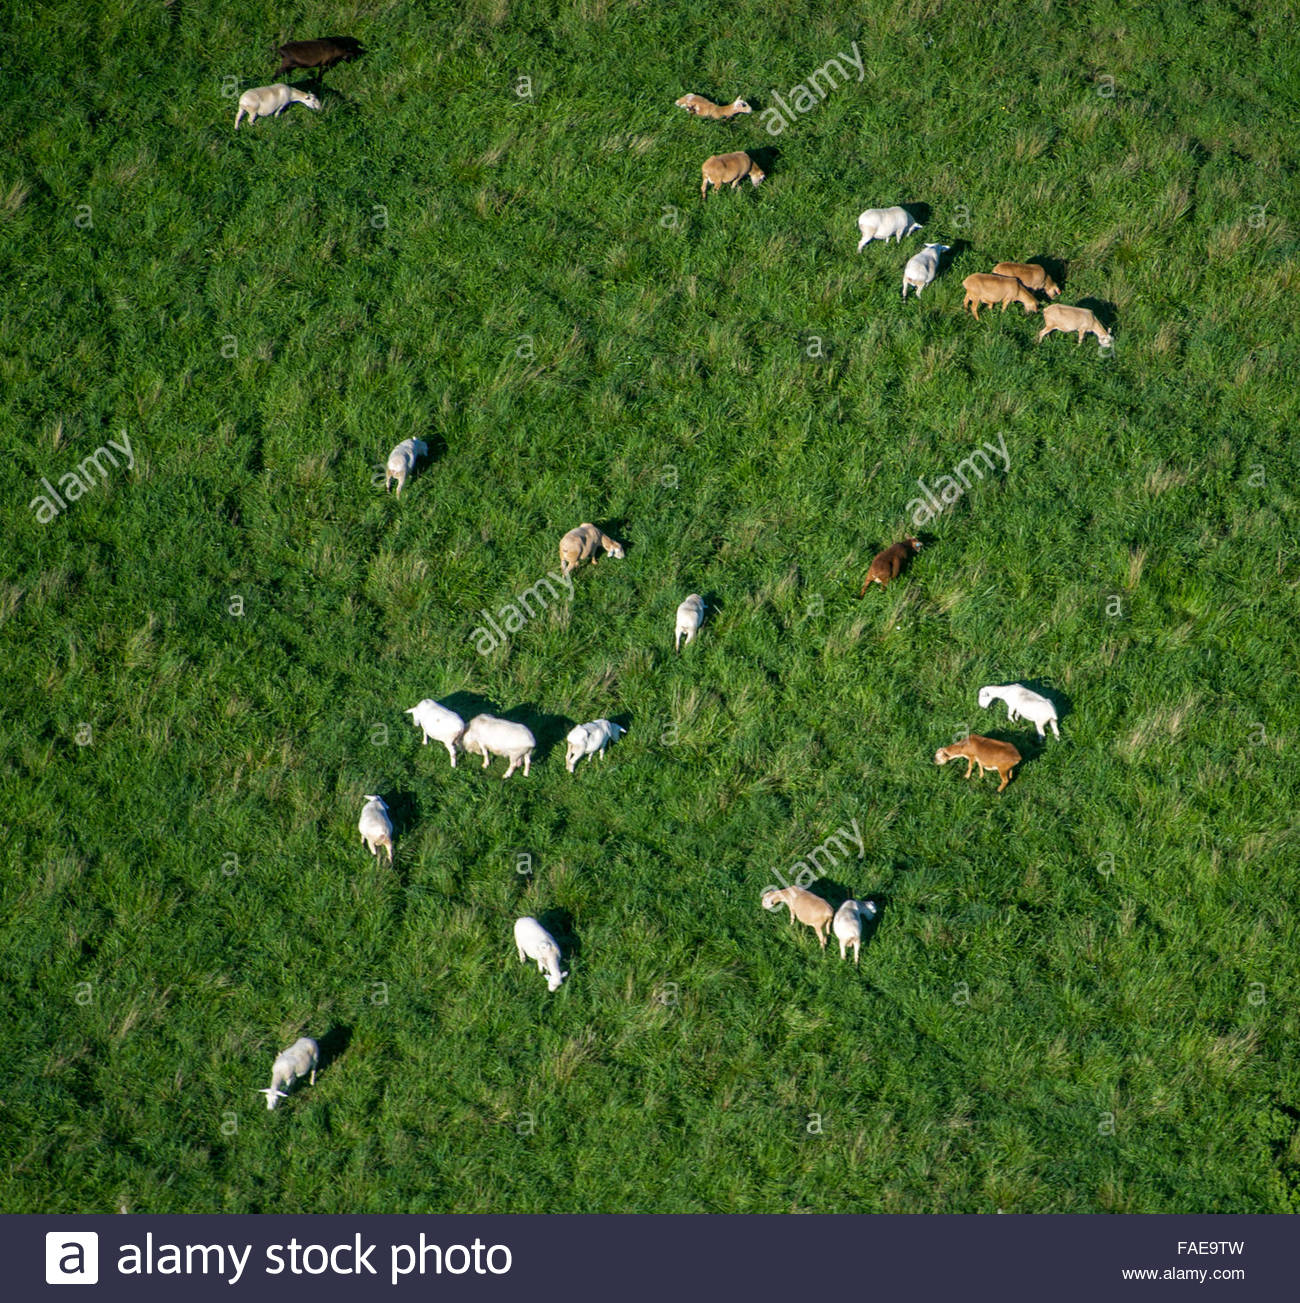sheep: (963, 676, 1067, 746), (270, 21, 385, 81), (550, 524, 649, 590), (757, 882, 844, 948), (504, 912, 563, 1002), (946, 733, 1032, 794), (258, 1031, 323, 1111), (688, 143, 773, 203), (351, 789, 408, 878), (467, 712, 549, 773), (864, 530, 944, 593), (957, 272, 1040, 328), (225, 83, 326, 129), (825, 895, 879, 979), (410, 700, 471, 768), (1040, 302, 1115, 353), (1000, 251, 1070, 305), (850, 196, 929, 243), (565, 715, 636, 765), (667, 593, 721, 653), (674, 90, 755, 131), (376, 434, 426, 499), (904, 242, 944, 292)
